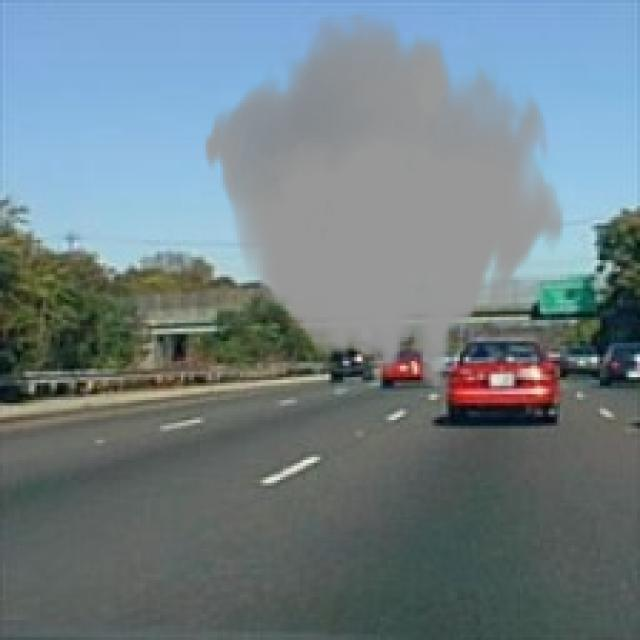Smoke: (203, 14, 566, 386)
